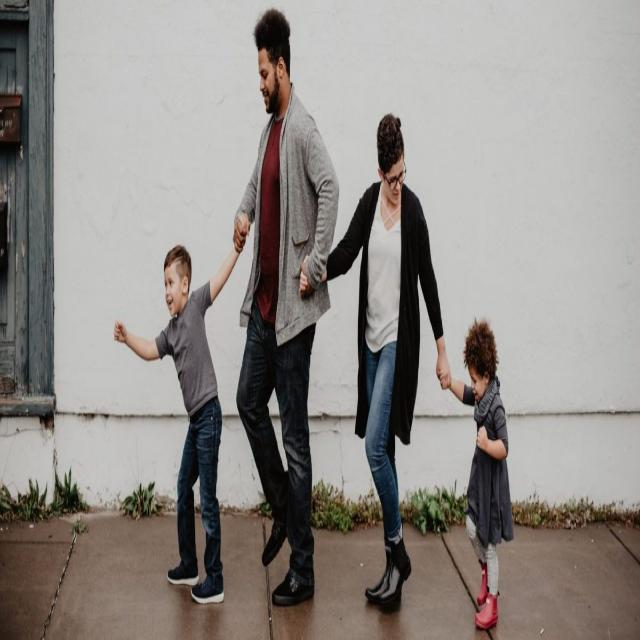Person: (302, 110, 452, 613), (233, 11, 340, 606), (113, 211, 250, 604), (441, 315, 514, 630)
